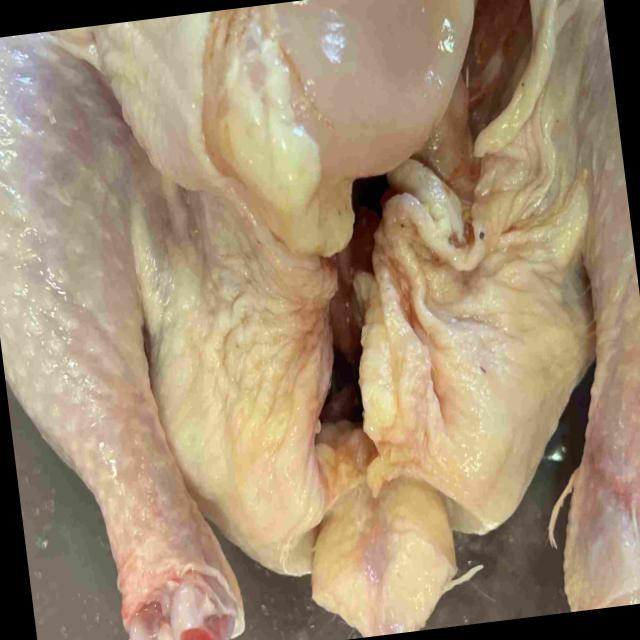breast: (89, 0, 475, 196)
leg: (0, 26, 250, 640), (563, 0, 640, 612)
